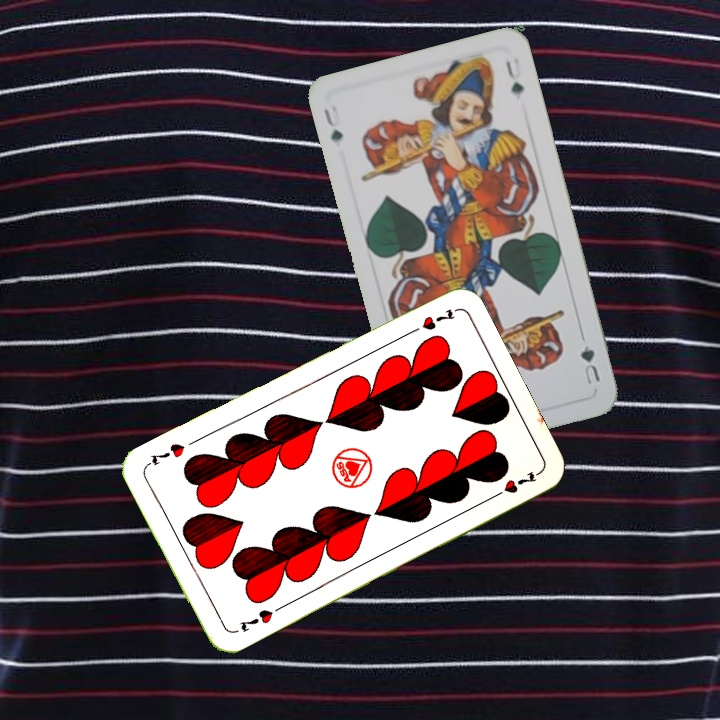GU: (576, 341, 603, 388), (319, 100, 346, 146)
H7: (403, 305, 458, 338), (235, 605, 276, 634)
